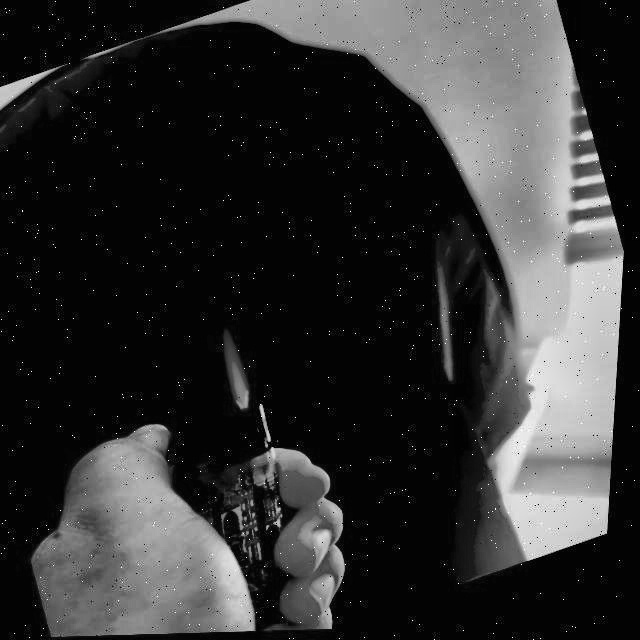Fire: (207, 317, 262, 413)
